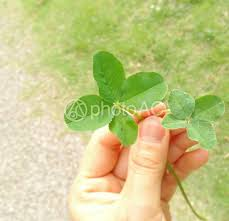4-clover: (63, 51, 162, 145), (164, 87, 223, 148)
